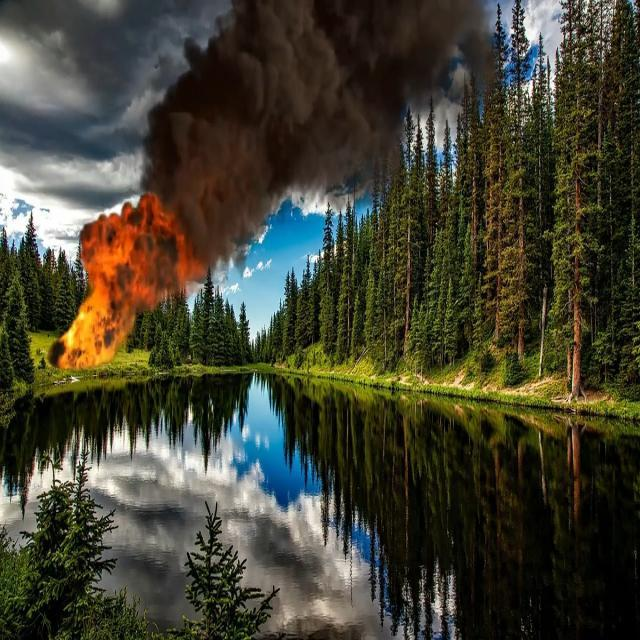Fire: (64, 204, 166, 360)
Smoke: (168, 0, 490, 229)
